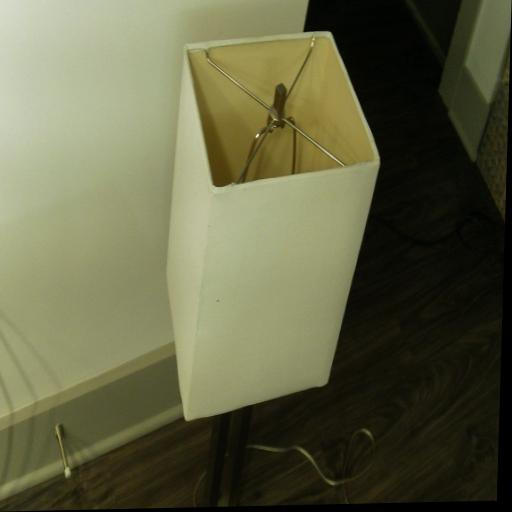lamp: (160, 30, 384, 508)
